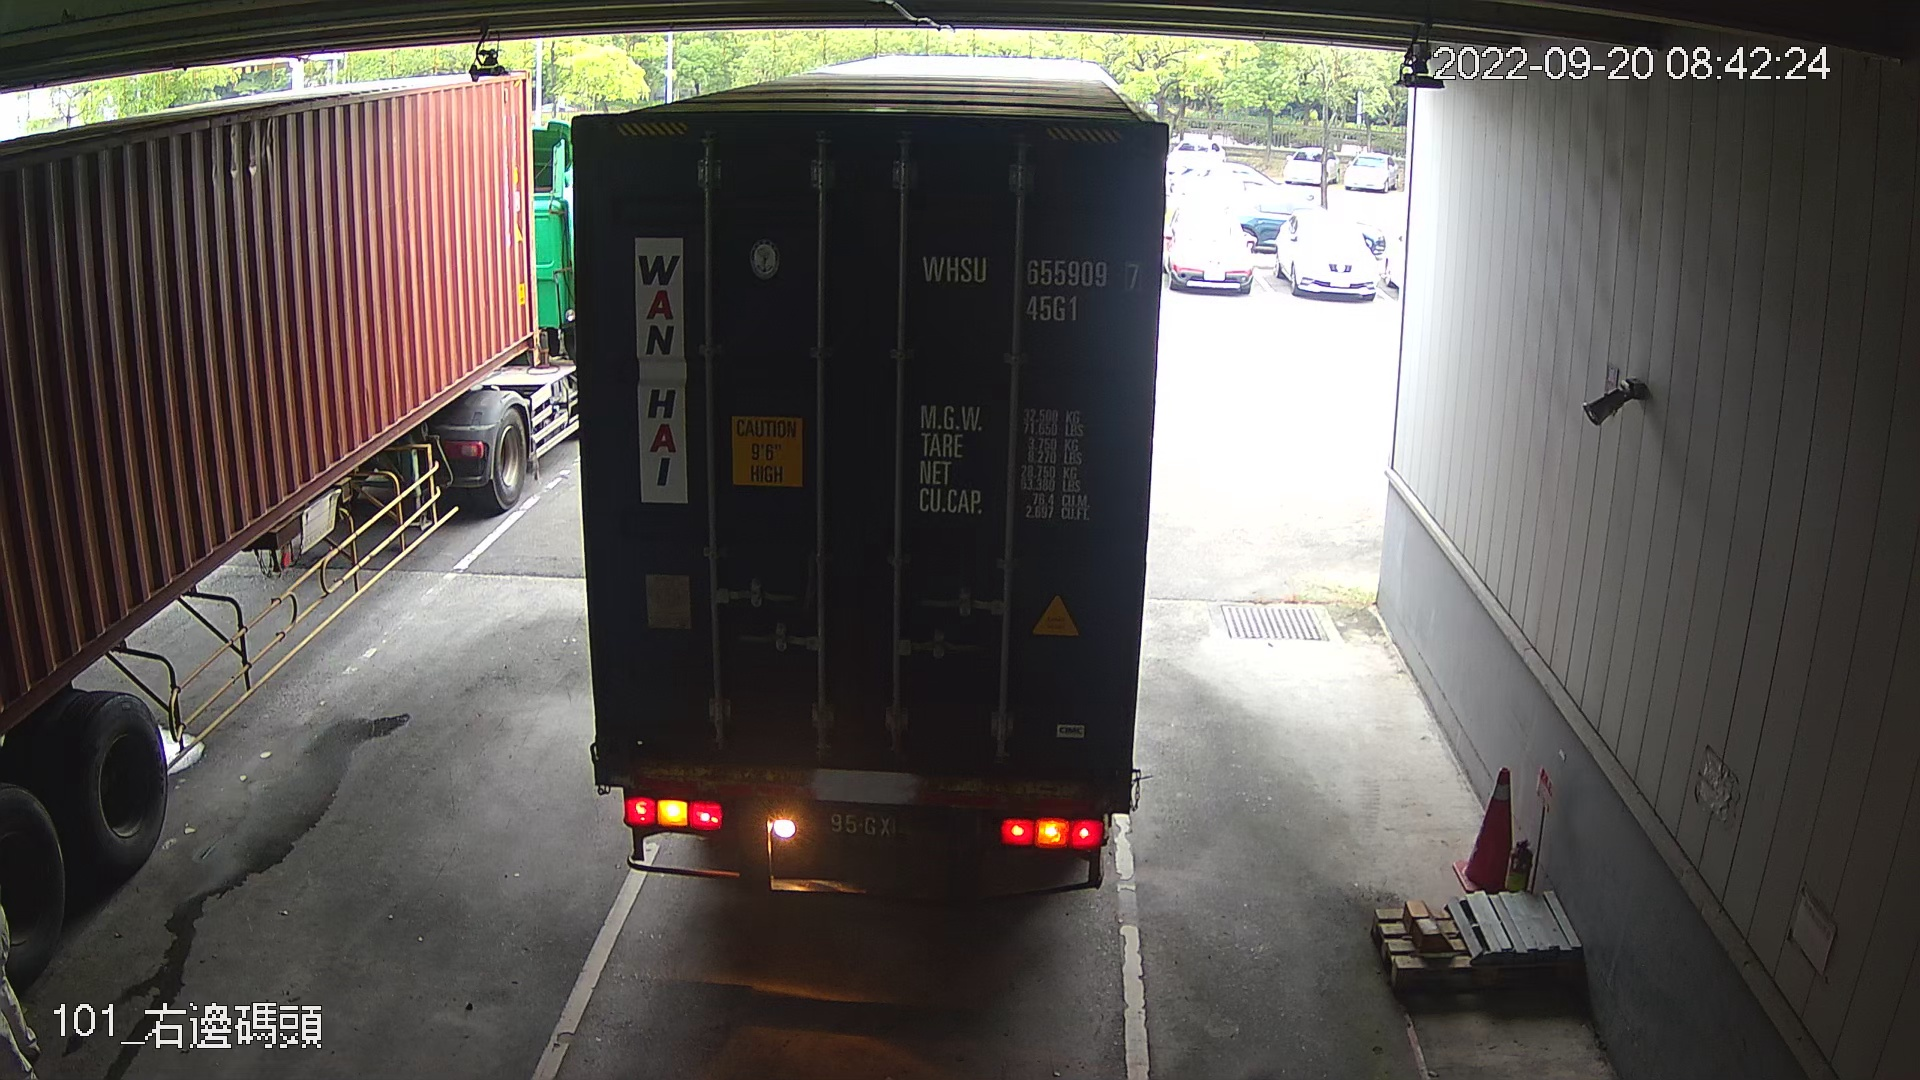container: (913, 244, 1150, 330)
